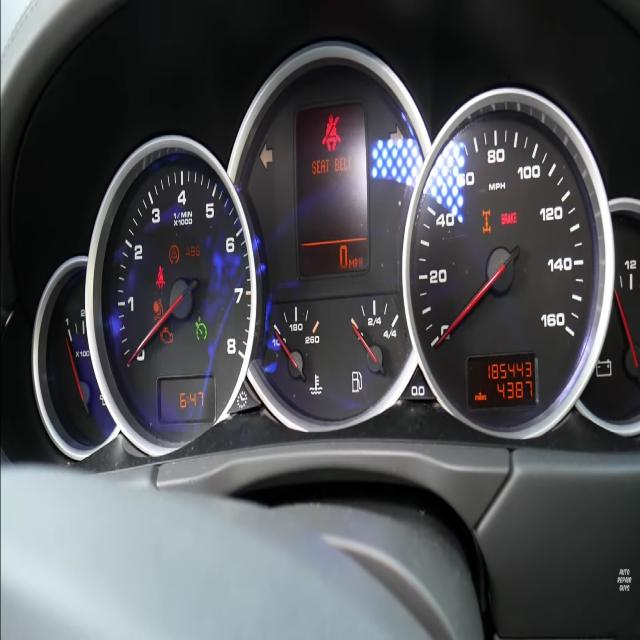Anti Lock Braking System: (186, 246, 200, 258)
Braking System Issue: (500, 212, 517, 225)
Check Engine: (160, 326, 173, 346)
SRS-Airbag: (153, 298, 164, 320)
